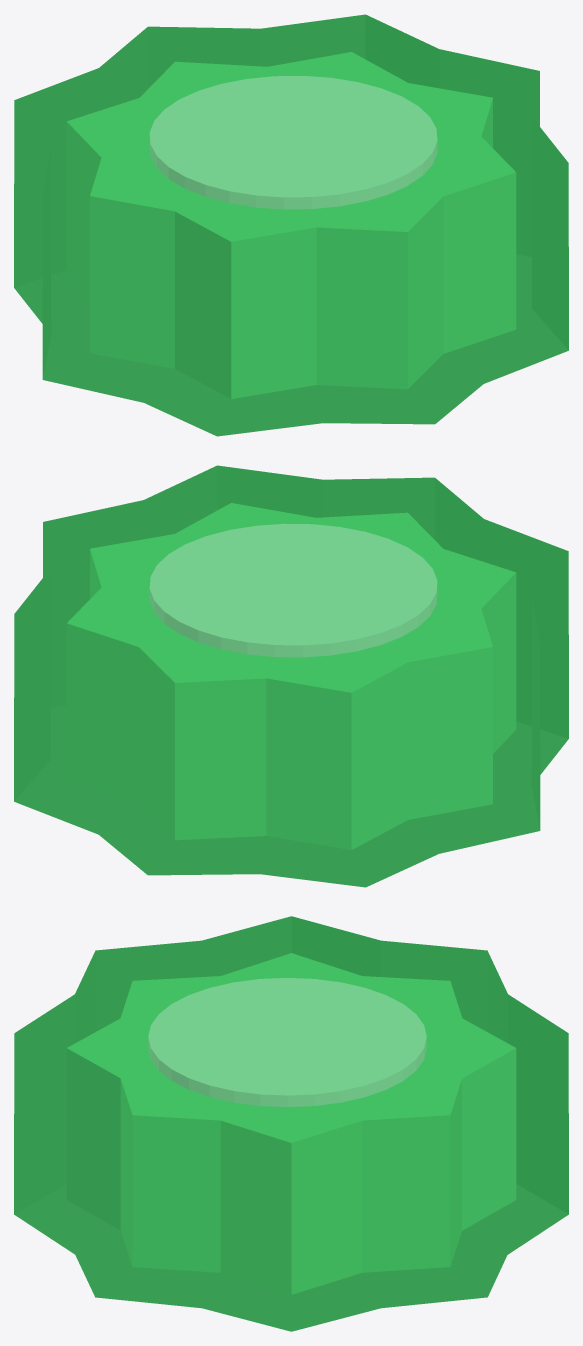
File: cactusPetal.glb
The picture shows the model from 3 angles, top to bottom: view 1: azimuth 30°, elevation 25°; view 2: azimuth 150°, elevation 25°; view 3: azimuth 270°, elevation 25°; orthographic projection. The views are drawn at different scales.
Visible parts, largest first — view 1: Cylinder, Cylinder.001; view 2: Cylinder, Cylinder.001; view 3: Cylinder, Cylinder.001.
Part boxes in pixels (<box>): Cylinder: <box>14,14,568,436</box>; Cylinder.001: <box>149,75,437,209</box>; Cylinder: <box>14,465,568,887</box>; Cylinder.001: <box>149,523,437,657</box>; Cylinder: <box>14,916,568,1331</box>; Cylinder.001: <box>148,978,426,1107</box>.
Bounding box in the file's own units: 2.3 × 0.8444 × 2.3.
